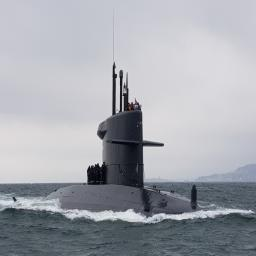submarine: (40, 64, 209, 213)
